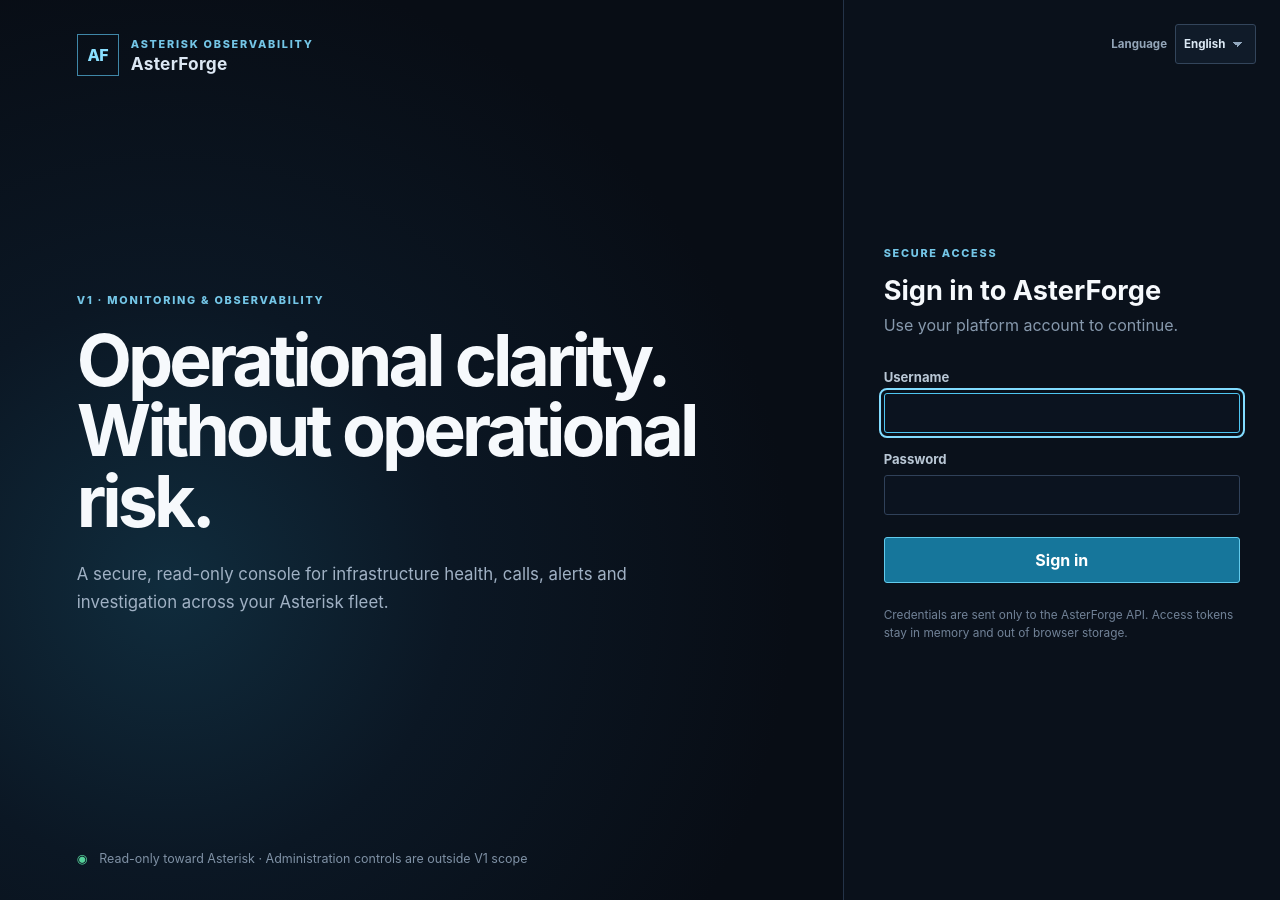
it: App › builds navigation from effective permissions and signs out
Type "operator" into the field labelled "Username" at (1062, 413), box [884, 393, 1240, 433]
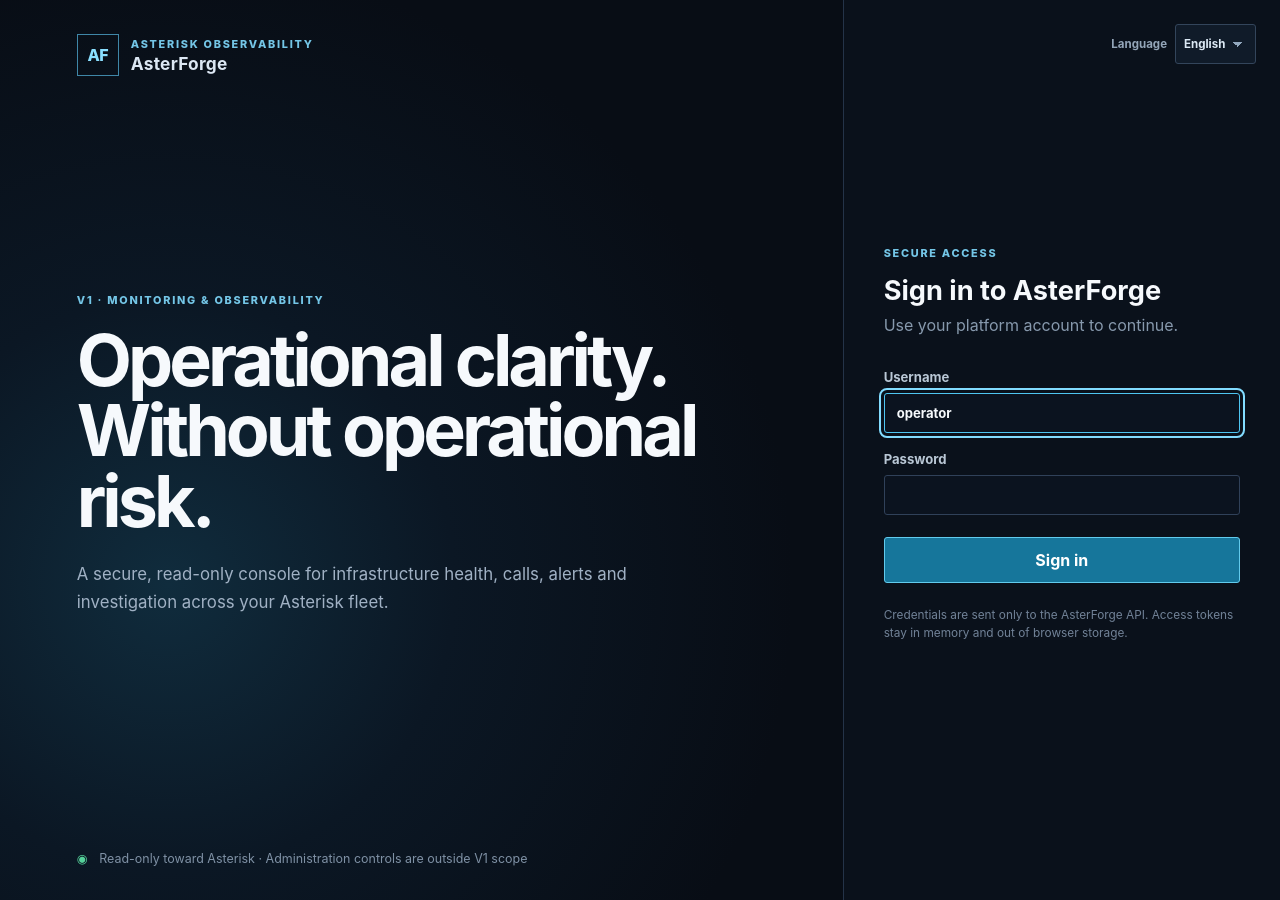
Type "correct horse battery staple" into the password field labelled "Password" at (1062, 495), box [884, 475, 1240, 515]
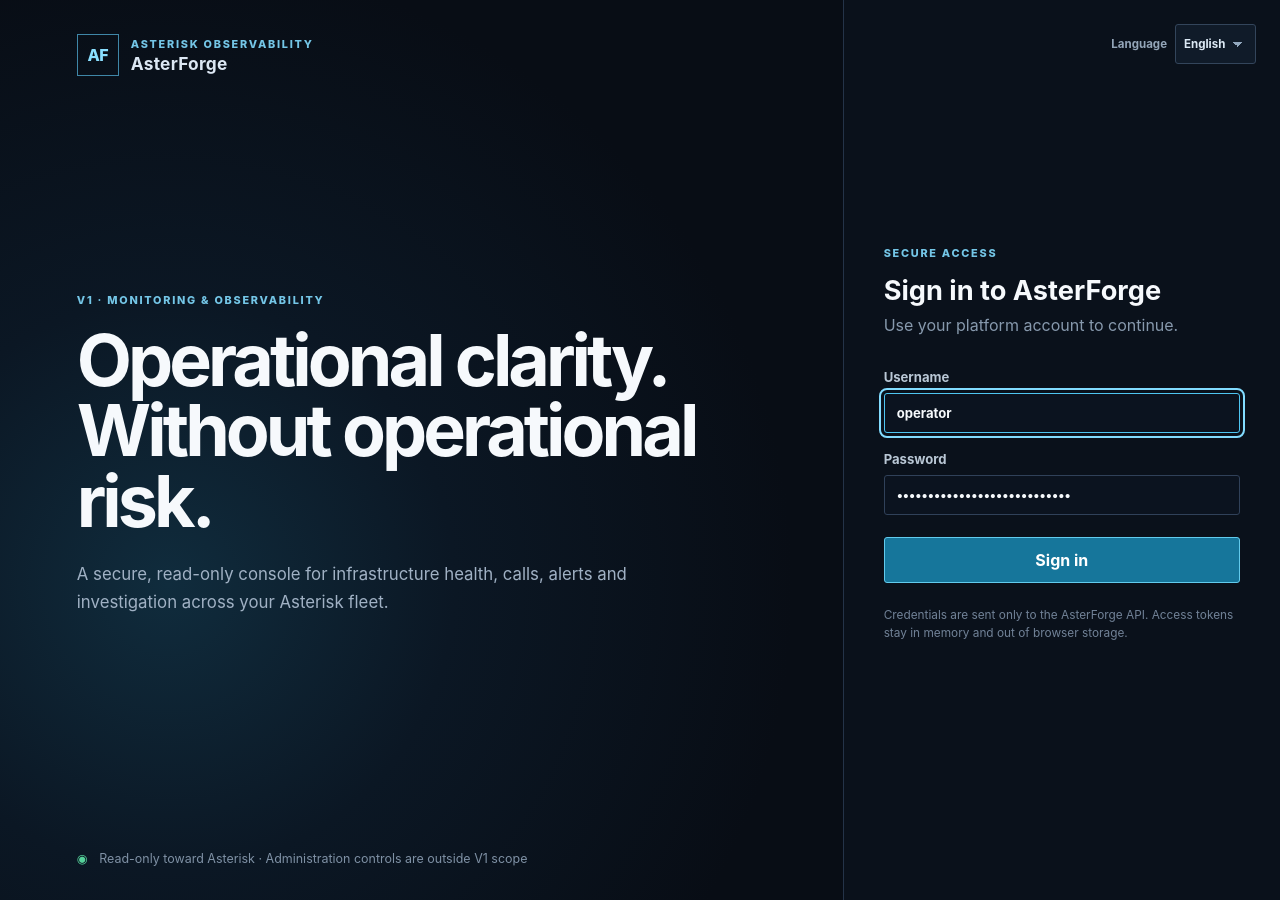
Click the button "Sign in" at (1062, 560), box [884, 537, 1240, 583]
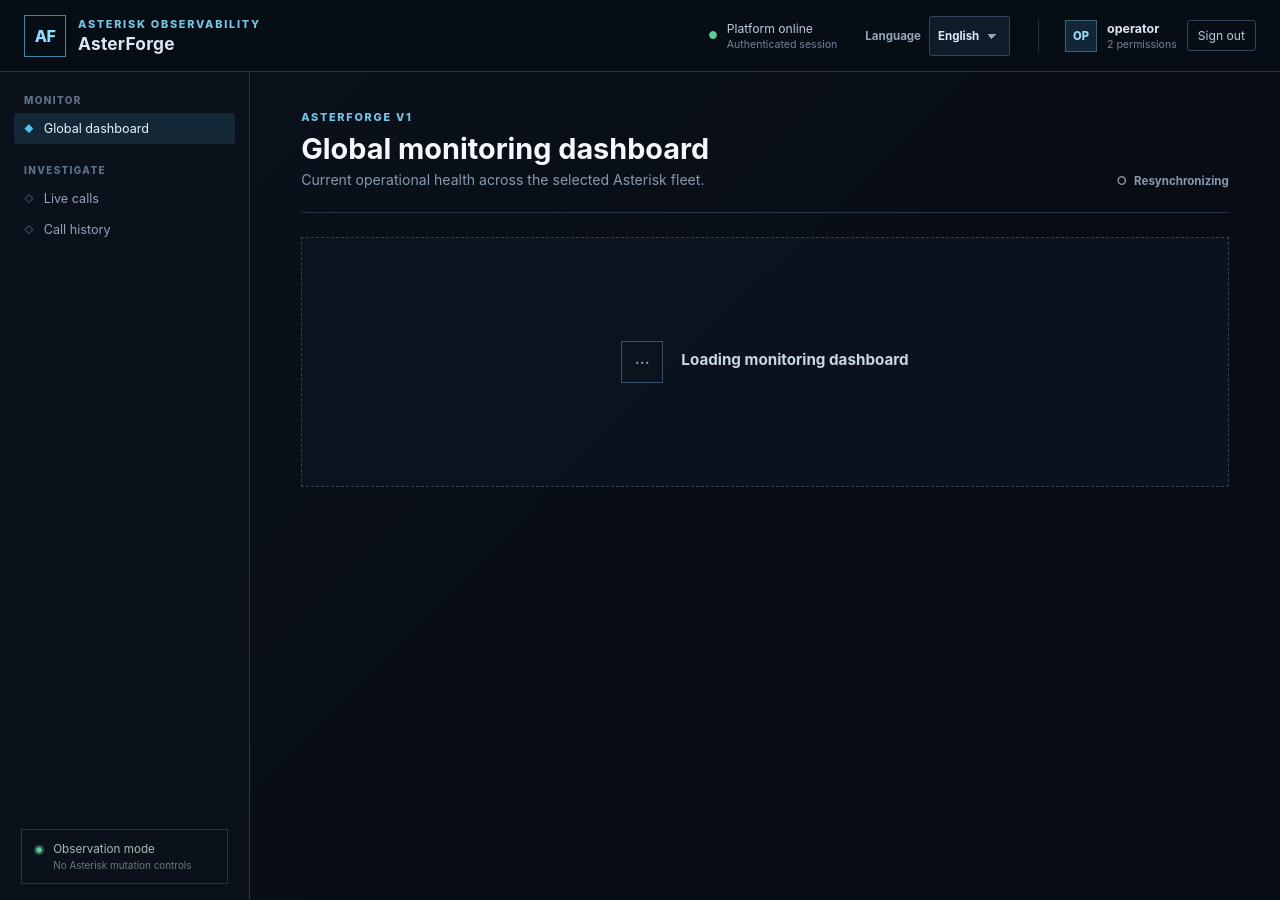
Now the button "◆ Global dashboard" is shown, box [14, 113, 235, 144]
Now the button "◇ Live calls" is shown, box [14, 183, 235, 214]
Now the button "◇ Call history" is shown, box [14, 214, 235, 245]
Click the button "Sign out" at (1221, 36), box [1187, 20, 1256, 51]
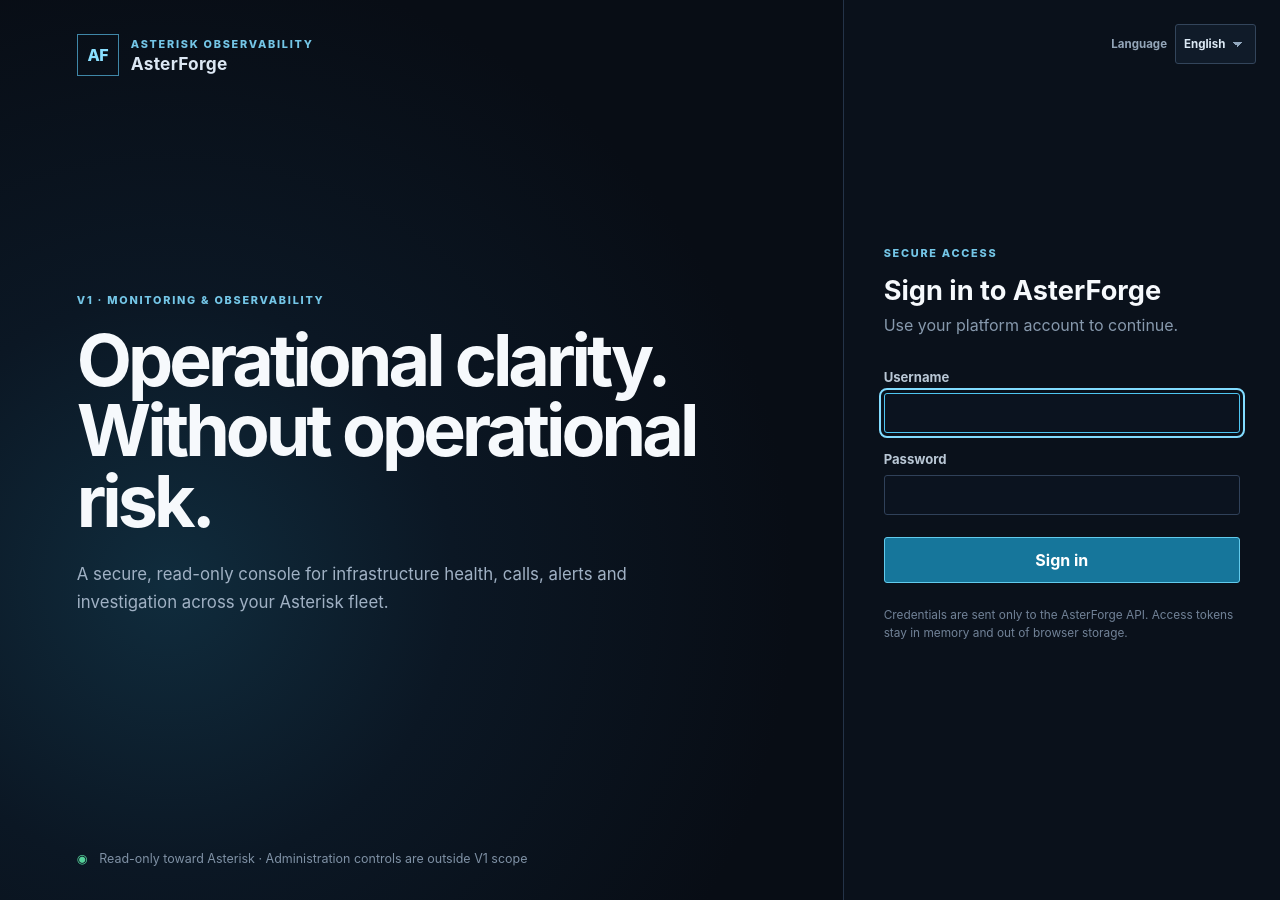
Now the heading "Sign in to AsterForge" is shown, box [884, 274, 1161, 307]
